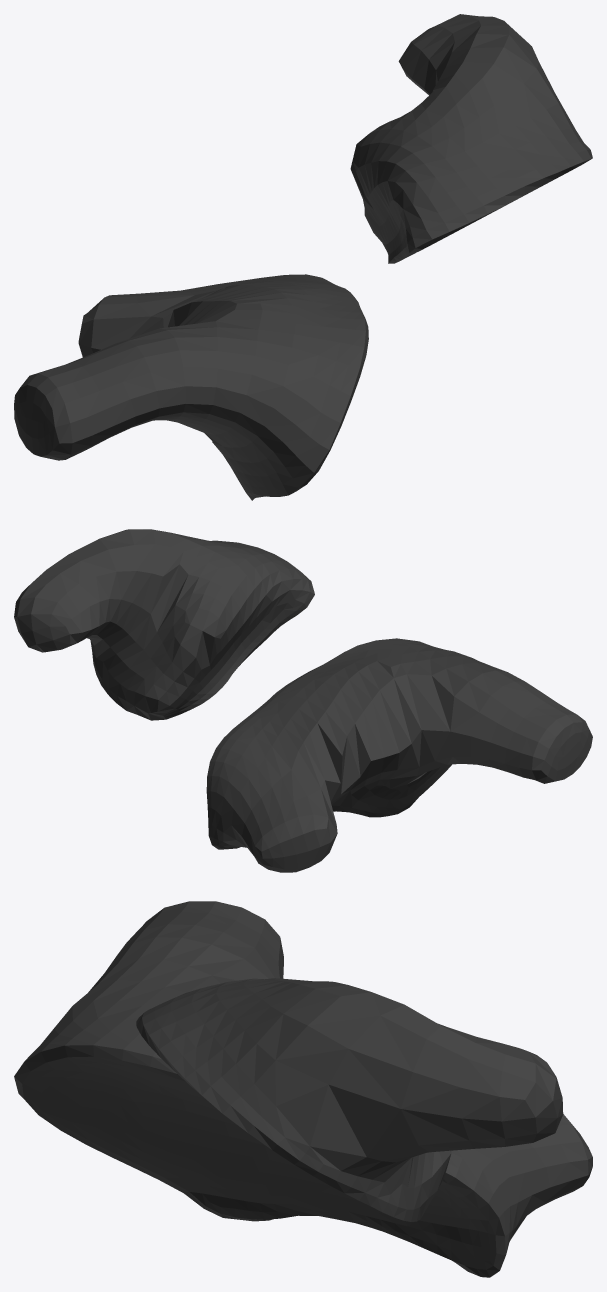
File: L_sided_PULMONARY_VEINS_LEFT.glb
The picture shows the model from 3 angles, top to bottom: view 1: azimuth 30°, elevation 25°; view 2: azimuth 150°, elevation 25°; view 3: azimuth 270°, elevation 25°; orthographic projection. The views are drawn at different scales.
Parts seen in each view (by area): view 1: L_sided_PULMONARY_VEINS_LEFT; view 2: L_sided_PULMONARY_VEINS_LEFT; view 3: L_sided_PULMONARY_VEINS_LEFT.
Part boxes in pixels (<box>): L_sided_PULMONARY_VEINS_LEFT: <box>14,14,592,500</box>; L_sided_PULMONARY_VEINS_LEFT: <box>14,529,592,872</box>; L_sided_PULMONARY_VEINS_LEFT: <box>14,901,592,1277</box>.
Bounding box in the file's own units: 4.27 × 2.29 × 3.05.
Materials: 1 (1 with a texture image).
